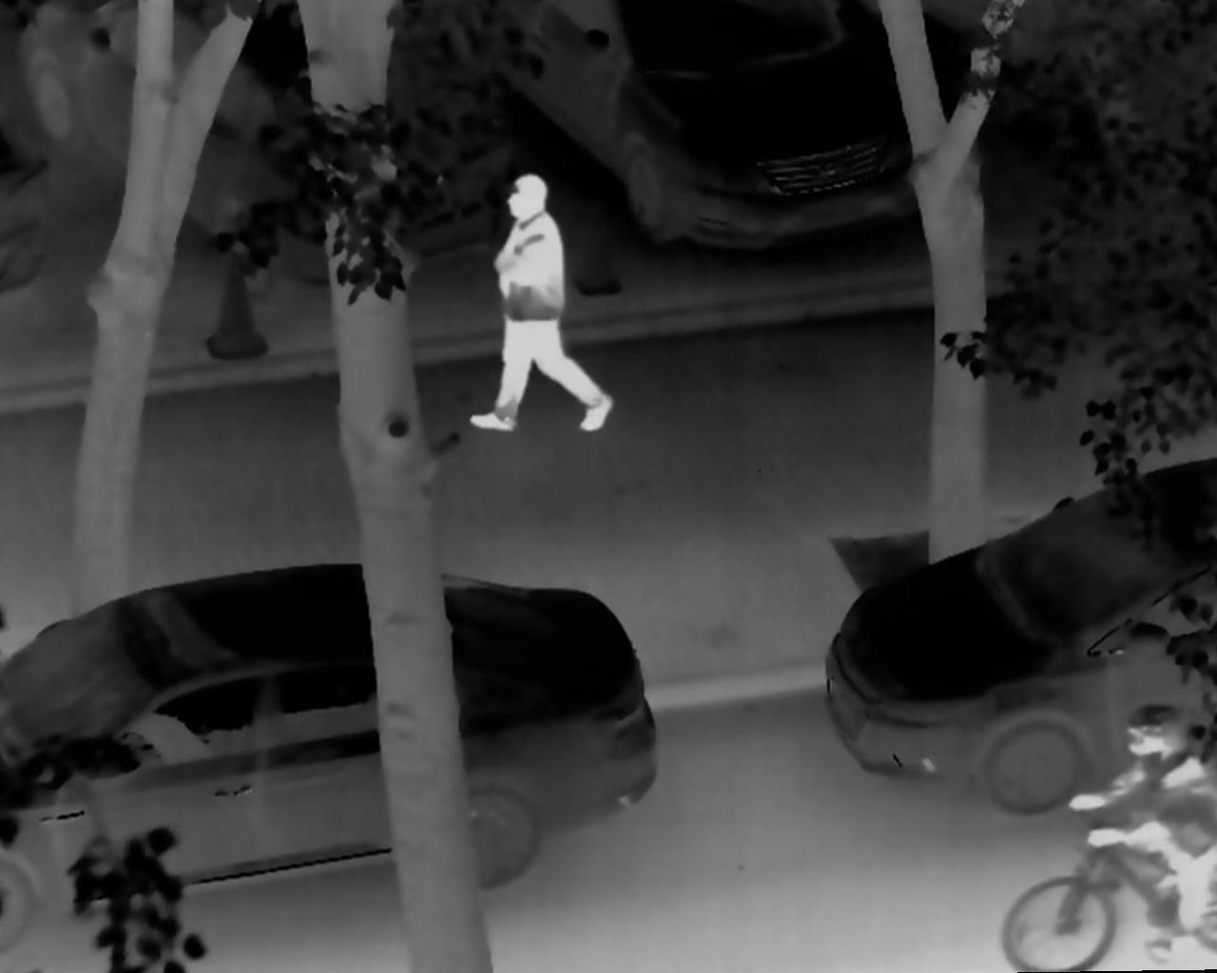person: (464, 167, 616, 438), (1068, 699, 1217, 958)
